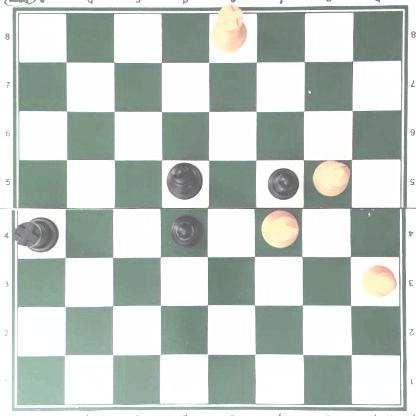black-king: (163, 161, 202, 199)
black-pawn: (170, 214, 204, 249), (266, 166, 298, 200)
white-bishop: (311, 159, 351, 197)
white-king: (262, 207, 298, 248)
white-pawn: (360, 261, 397, 298)
white-rook: (210, 5, 249, 54), (15, 216, 60, 254)
